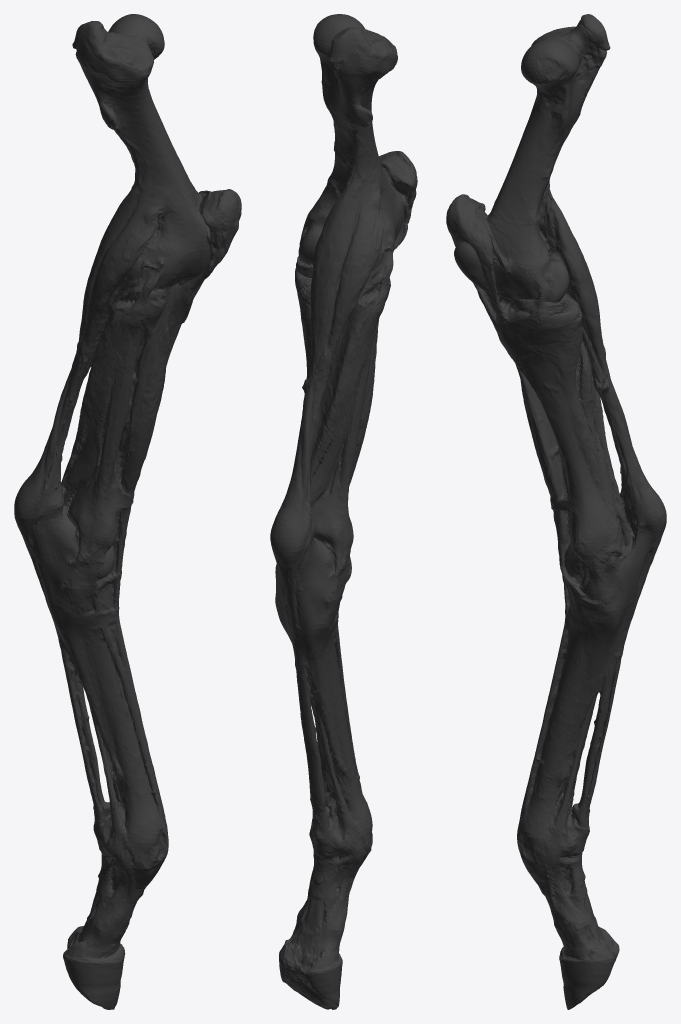
The model's file is ZBrushPolyMesh3D.glb.
3 renders of one model, left to right at view 1: azimuth 90°, elevation 25°; view 2: azimuth 150°, elevation 25°; view 3: azimuth 270°, elevation 25°, orthographic. The views are drawn at different scales.
Visible parts, largest first — view 1: ZBrushPolyMesh3D; view 2: ZBrushPolyMesh3D; view 3: ZBrushPolyMesh3D.
Boxes of the visible parts, x1,y1,x2,y2 form: ZBrushPolyMesh3D: (14, 14, 241, 1009); ZBrushPolyMesh3D: (270, 14, 417, 1009); ZBrushPolyMesh3D: (446, 14, 666, 1009).
Size of the model in its own units: 11.25 by 105 by 21.49.
1 material, 1 textured.
